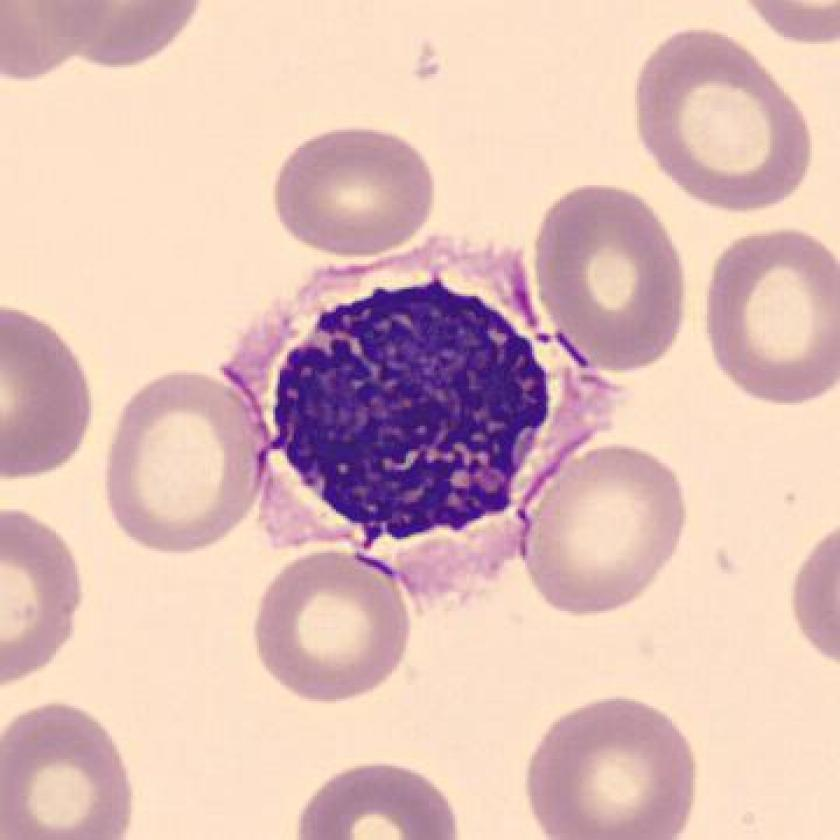basophil: (260, 265, 556, 556)
